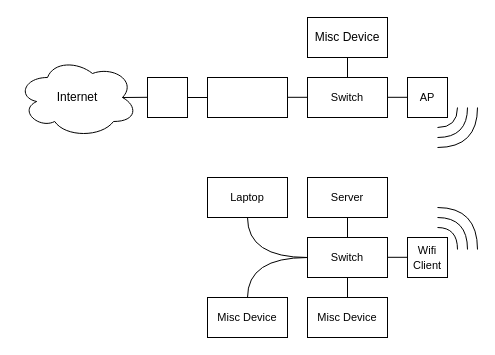
Image size: 495x355. Some labels were removed from this diagram. Here are the shapes that lost their labels. From the top down, the centre of each, then its label:
At pixel 167 97: "Modem".
At pixel 247 97: "Router/Firewall".
